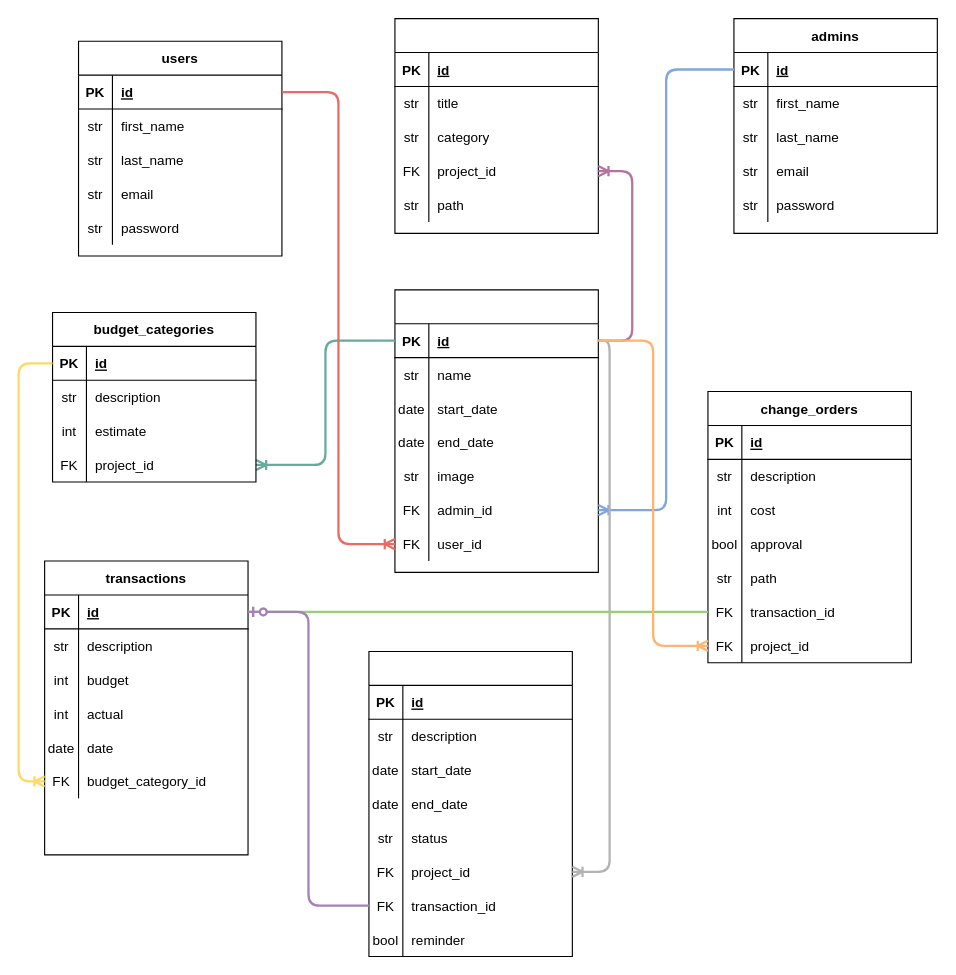
This 956x975 diagram has some shape labels left out. The shapes that lost their labels are listed below. From the top down, each one's box as (x1, y1, x2, y2) in pixels, then its label:
(394, 18, 598, 233): documents
(394, 289, 598, 572): projects
(368, 650, 572, 957): milestones
